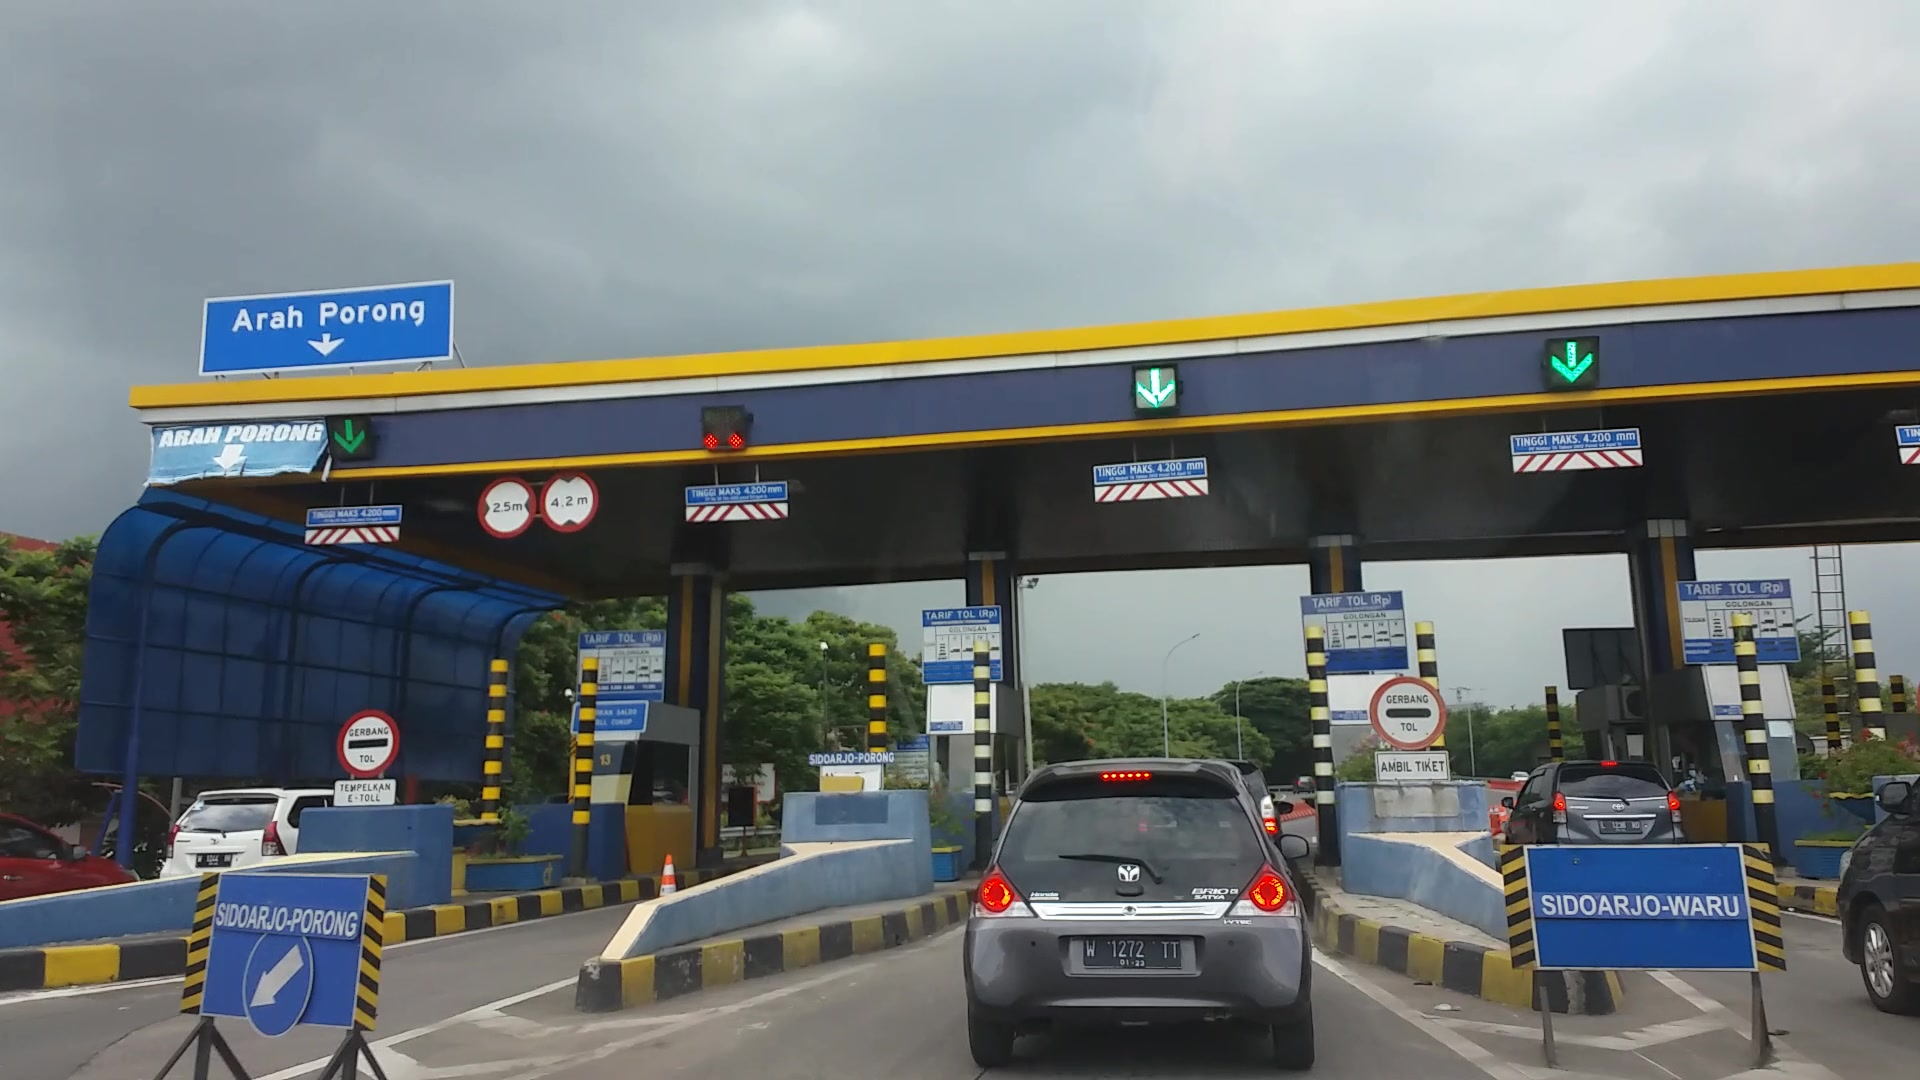plate_positive: (1083, 936, 1182, 969)
